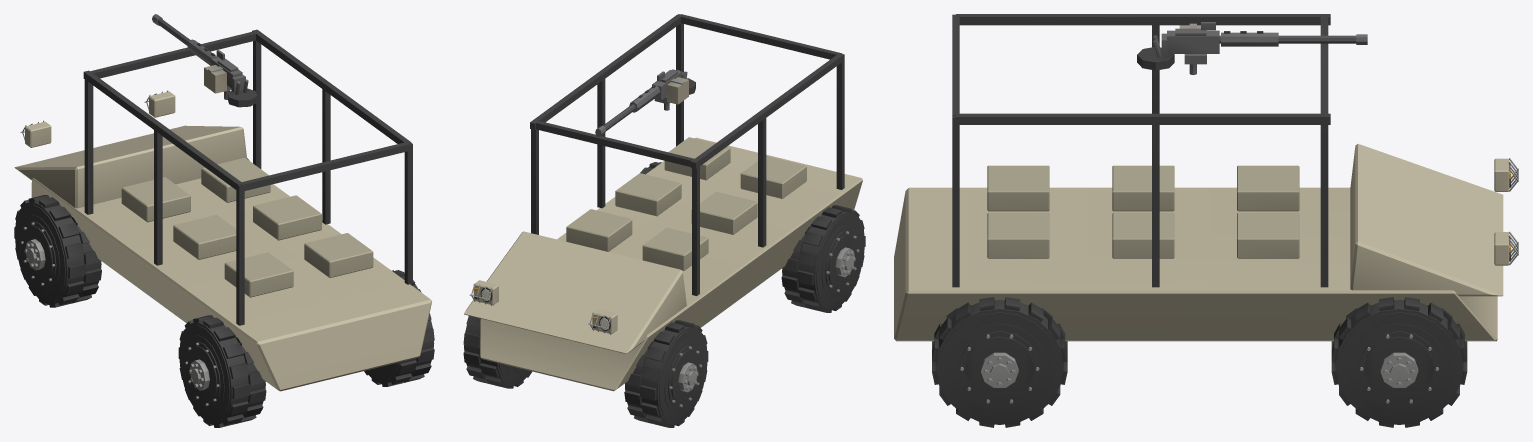
Rendered from rus_lv_hunter.glb.
The picture shows the model from 3 angles, left to right: view 1: azimuth 30°, elevation 25°; view 2: azimuth 150°, elevation 25°; view 3: azimuth 270°, elevation 25°; orthographic projection. The views are drawn at different scales.
Parts seen in each view (by area): view 1: body, wheel_0, wheel_2, barrel, wheel_3, turret; view 2: body, wheel_2, wheel_0, wheel_1, barrel; view 3: body, wheel_1, wheel_3, barrel, turret.
Part boxes in pixels (x1=…): body: x1=14, y1=29, x2=431, y2=391; wheel_0: x1=14, y1=195, x2=101, y2=307; wheel_2: x1=178, y1=315, x2=266, y2=427; barrel: x1=152, y1=14, x2=248, y2=99; wheel_3: x1=364, y1=270, x2=434, y2=386; turret: x1=227, y1=88, x2=257, y2=107; body: x1=464, y1=14, x2=862, y2=391; wheel_2: x1=781, y1=205, x2=865, y2=312; wheel_0: x1=624, y1=320, x2=708, y2=427; wheel_1: x1=463, y1=316, x2=532, y2=388; barrel: x1=595, y1=69, x2=688, y2=136; body: x1=894, y1=14, x2=1518, y2=341; wheel_1: x1=1331, y1=297, x2=1467, y2=427; wheel_3: x1=932, y1=297, x2=1067, y2=427; barrel: x1=1153, y1=22, x2=1367, y2=74; turret: x1=1137, y1=47, x2=1174, y2=70.
Bounding box in the file's own units: 2.1 × 2.55 × 4.17.
